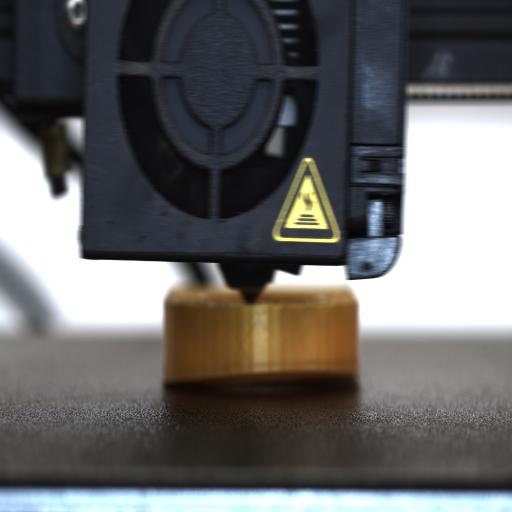warp: (169, 353, 355, 394)
